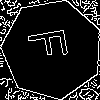F: (27, 24, 78, 63)
